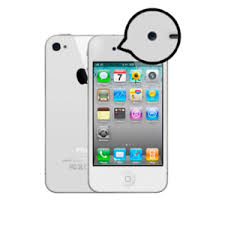iphone: (84, 33, 170, 196)
iphone4: (83, 31, 169, 194)
